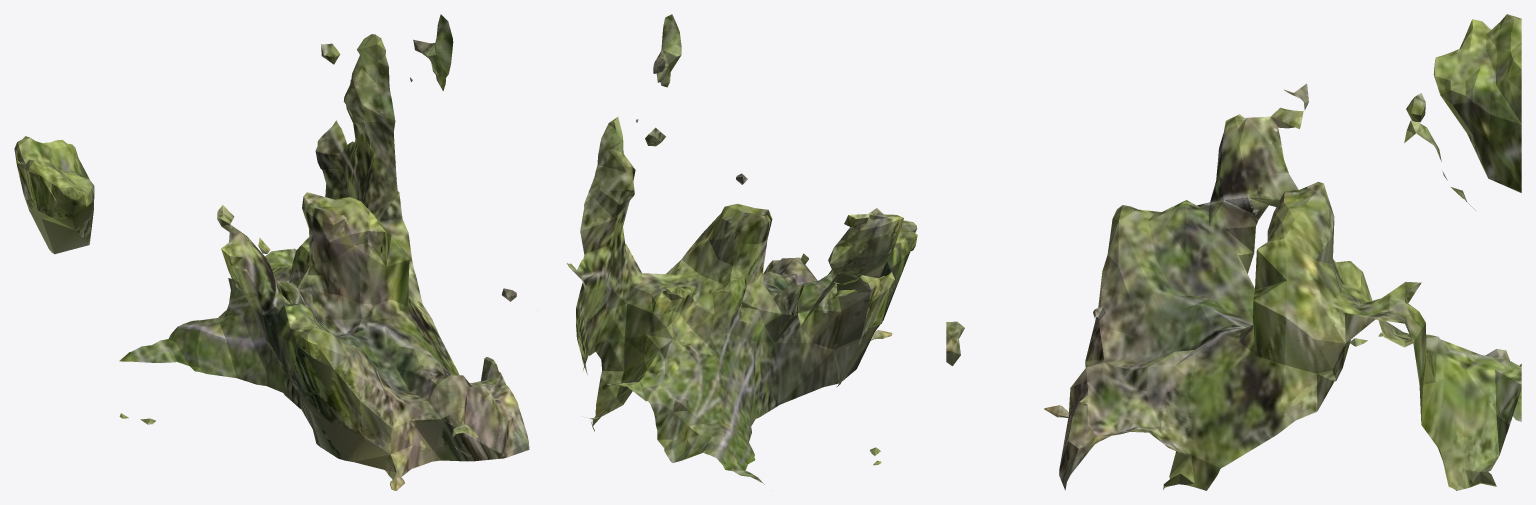
3 renders of one model, left to right at view 1: azimuth 30°, elevation 25°; view 2: azimuth 150°, elevation 25°; view 3: azimuth 270°, elevation 25°, orthographic. The views are drawn at different scales.
Bounding box in the file's own units: 2.28 × 2.48 × 2.95.
Materials: 3 (3 with a texture image).
